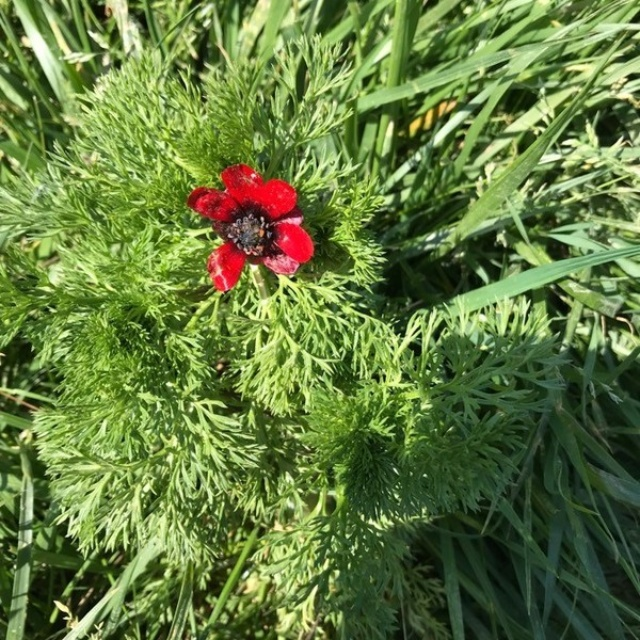obstacle: (59, 44, 418, 577), (383, 34, 627, 555)
